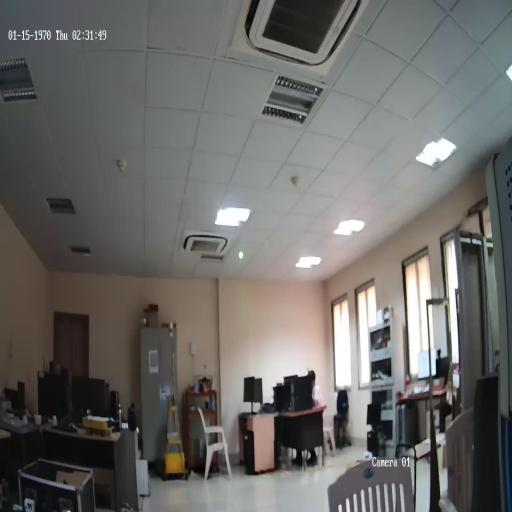laser: (238, 250, 244, 261)
